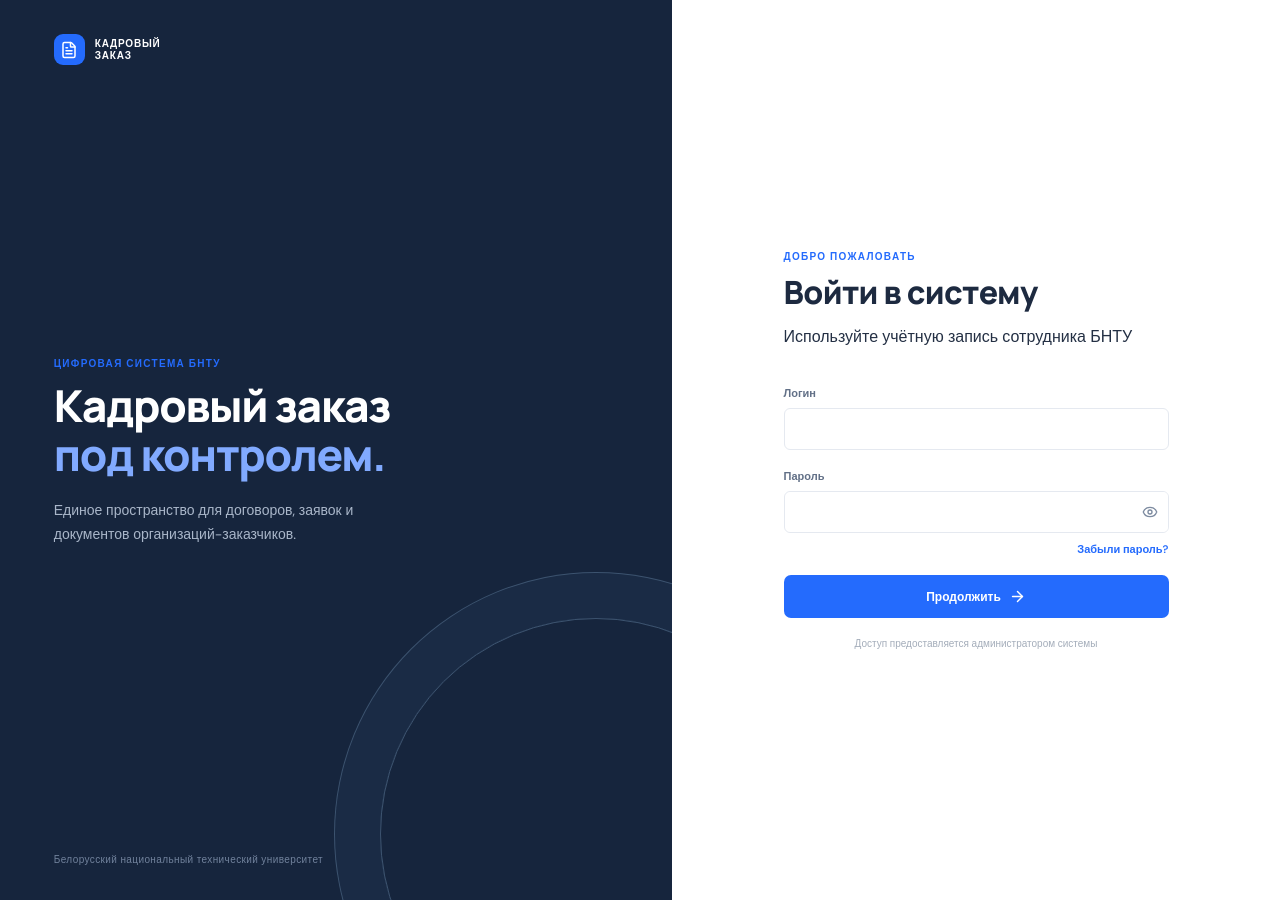
Test: server session and routes under /app › starts with empty credentials
This screenshot has width=1280, height=900.
Expected: the field labelled "Логин" is empty, [784,408,1168,450]
Expected: the password field labelled "Пароль" is empty, [784,492,1132,532]
Click the button "Продолжить".
click(976, 597)  # box [784,575,1168,618]
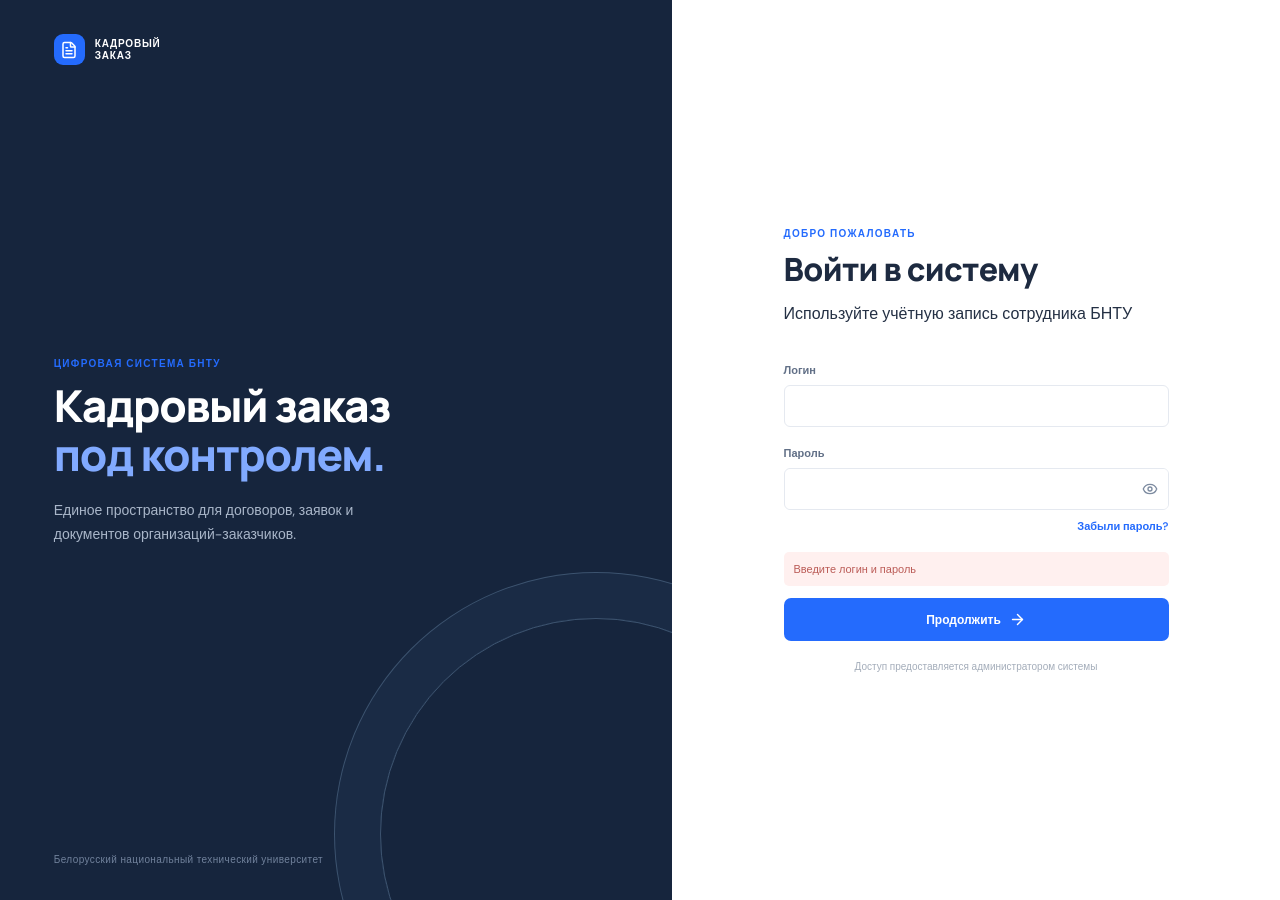
Now the message reads "Введите логин и пароль", box [794,562,916,576]
